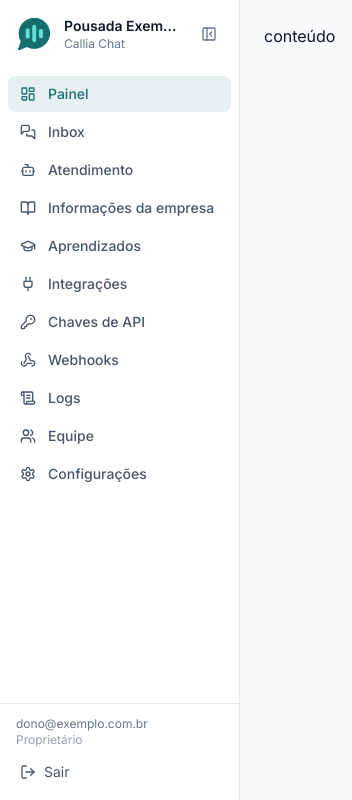
Test case: menu lateral recolhível › sem localStorage (aba privada) continua funcionando
What coordinates should you click on to do the following:
click the button named "Recolher menu lateral"
I would click on:
 (209, 34)
Its box is 195,20 -> 223,48.
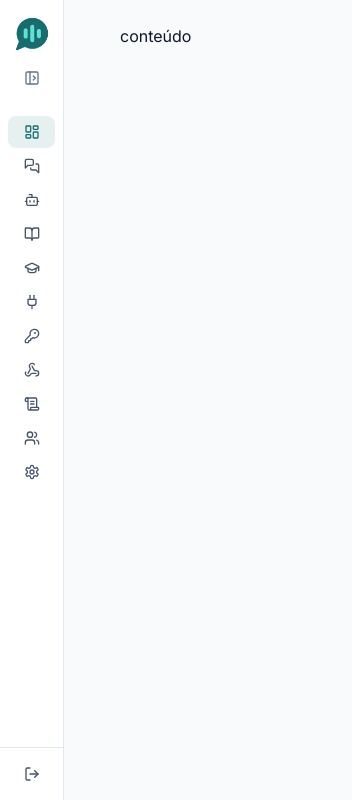
Expected: the button named "Expandir menu lateral" is shown, 18,64 -> 46,92
